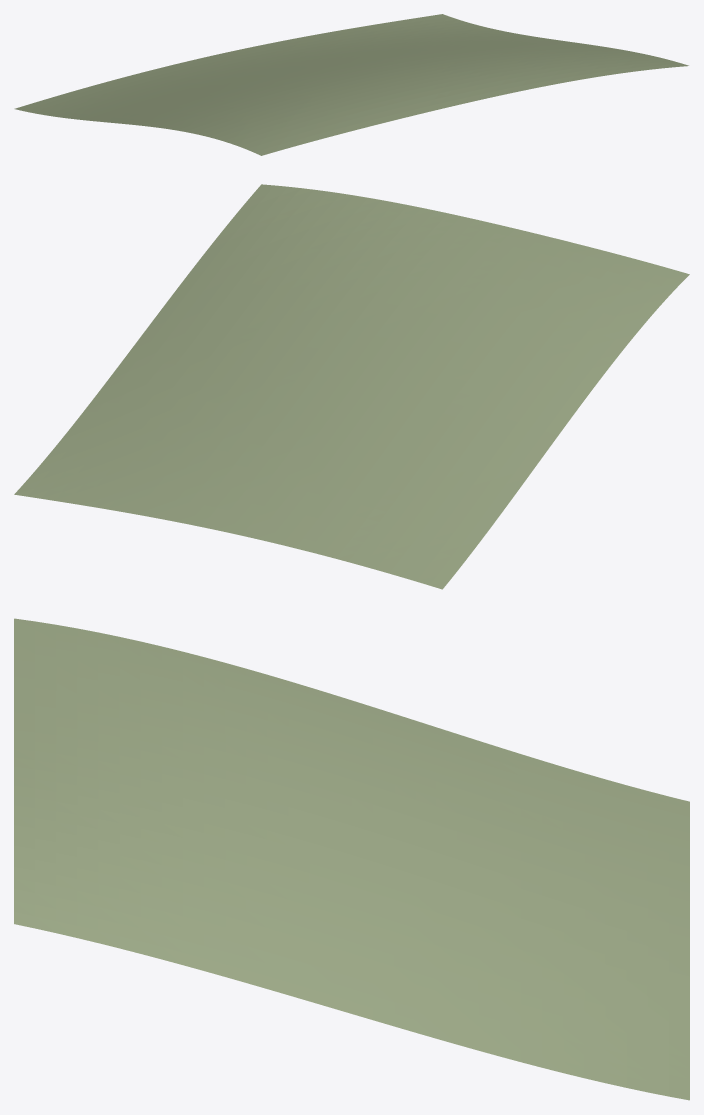
The model's file is desert-20-15.glb.
3 renders of one model, top to bottom at view 1: azimuth 30°, elevation 25°; view 2: azimuth 150°, elevation 25°; view 3: azimuth 270°, elevation 25°, orthographic. The views are drawn at different scales.
Parts seen in each view (by area): view 1: desert-20-15; view 2: desert-20-15; view 3: desert-20-15.
Part boxes in pixels (<box>): desert-20-15: <box>14,14,688,155</box>; desert-20-15: <box>14,184,689,589</box>; desert-20-15: <box>14,618,689,1100</box>.
Size of the model in its own units: 512 by 168 by 512.
